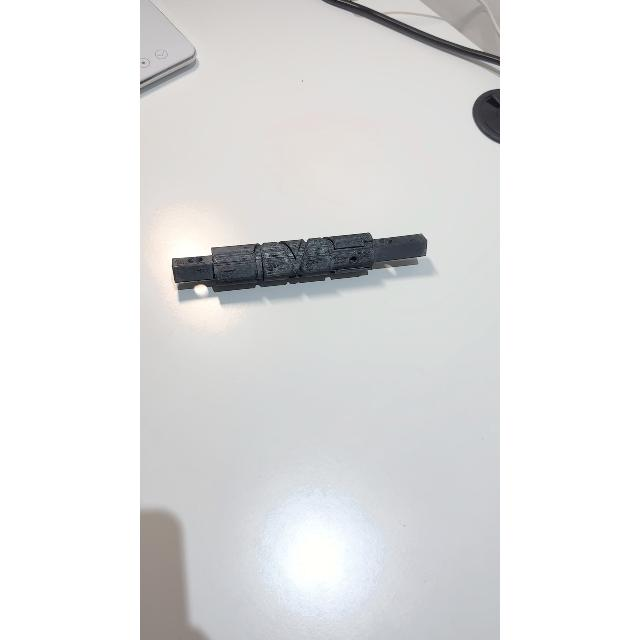Pieza_1: (160, 209, 432, 305)
